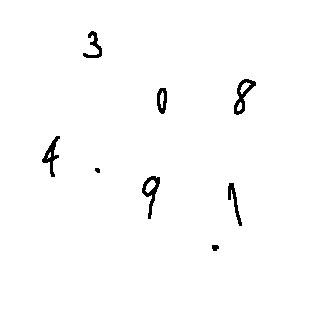.: (207, 238, 223, 256), (94, 161, 104, 183)
0: (148, 80, 178, 122)
1: (220, 175, 251, 234)
3: (79, 28, 105, 67)
4: (36, 129, 69, 183)
8: (224, 72, 259, 120)
9: (136, 168, 164, 229)
